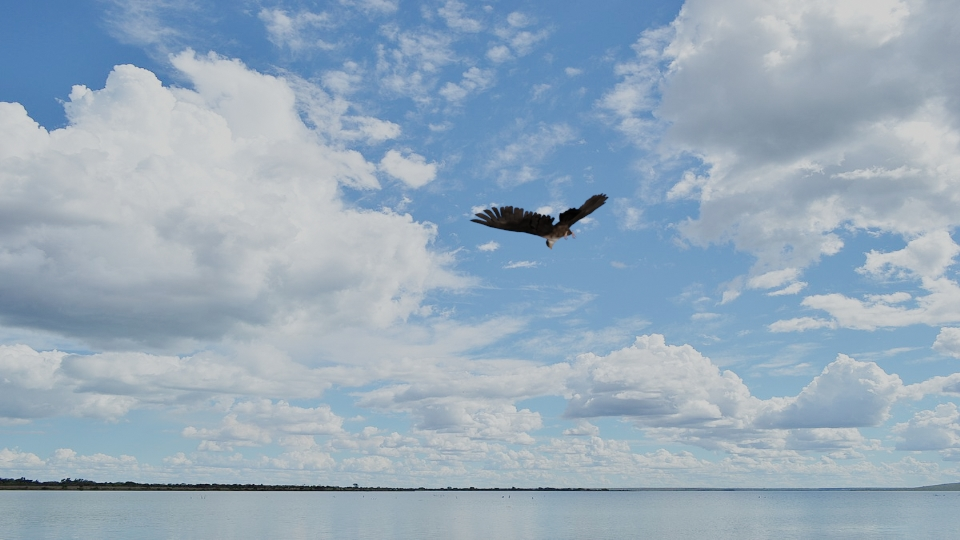bird: (470, 190, 606, 249)
